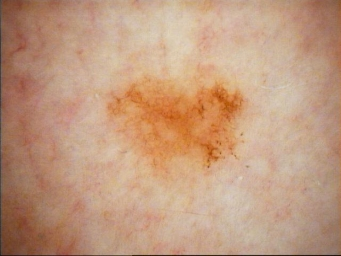nevus: (108, 86, 241, 167)
